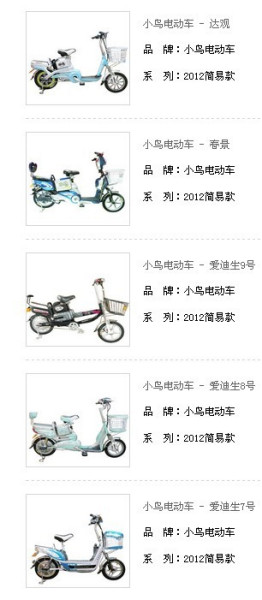电动车: (25, 494, 131, 585), (27, 16, 131, 102), (24, 139, 129, 224), (24, 267, 131, 350), (20, 392, 131, 467)
